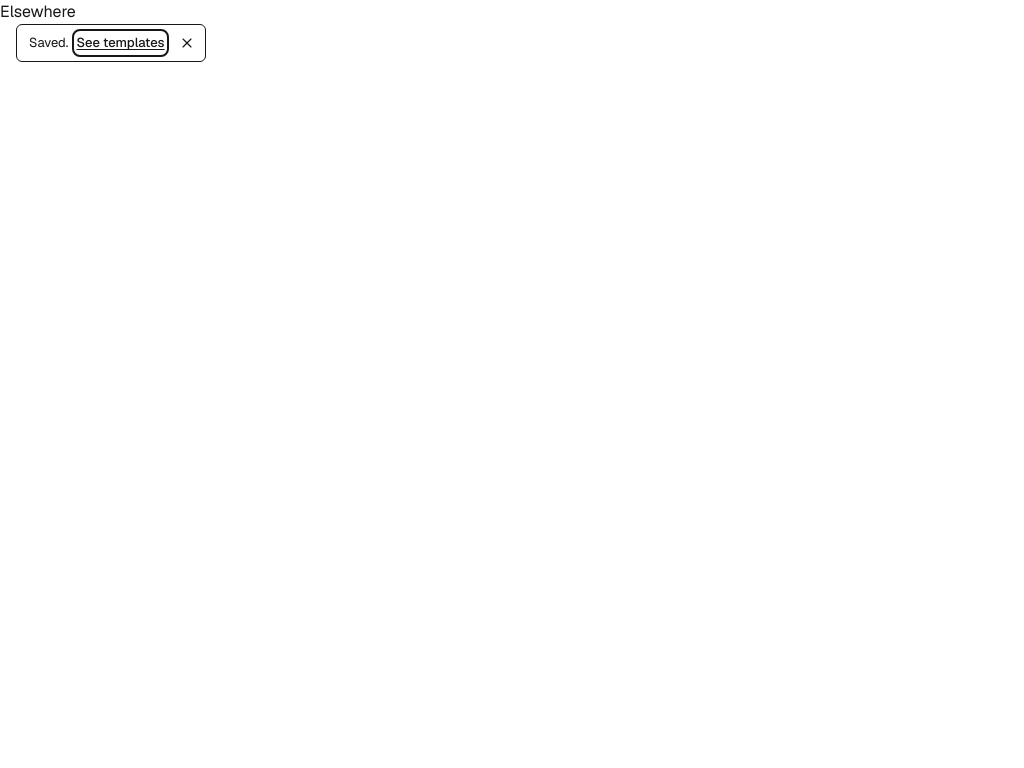
it: how long a notice stays › the link's own question, asked while an export runs, keeps the notice and itself on screen
The image size is (1024, 768).
Later steps or results of the test are not shown.
Click the link "See templates" at x=121, y=43, box left=76, top=33, right=165, bottom=53
Wait 60000 ms
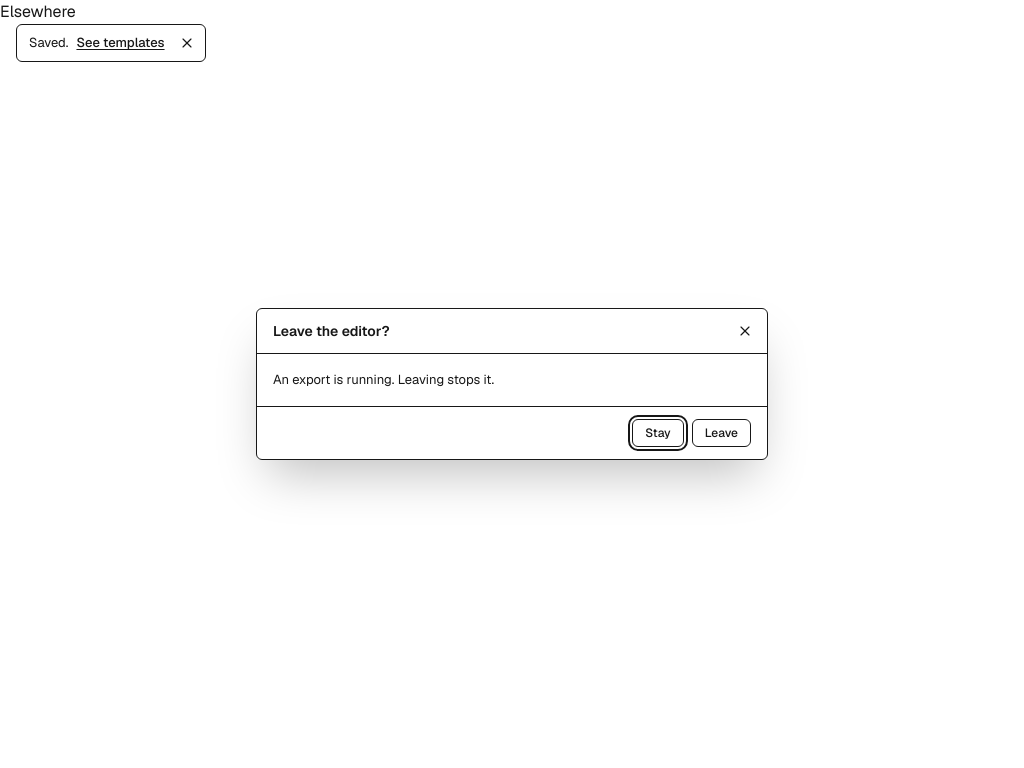
Expected: the text "Saved." is shown, left=29, top=34, right=68, bottom=51
Expected: the heading "Leave the editor?" is shown, left=273, top=322, right=390, bottom=340
